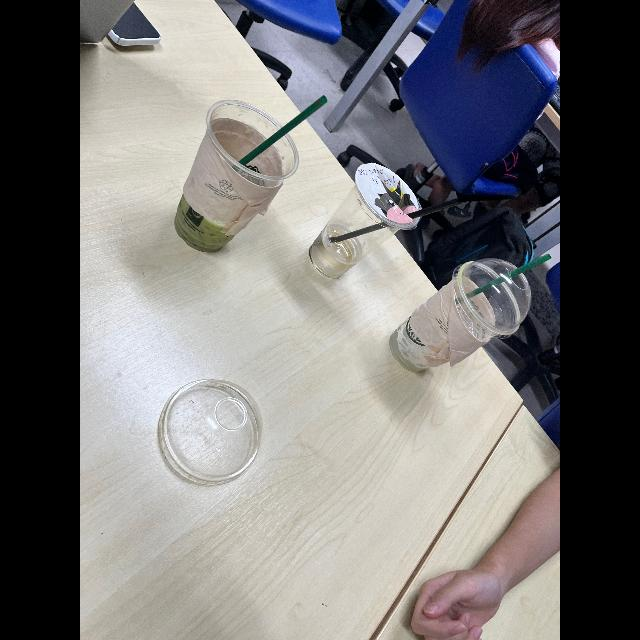plastic_cup: (172, 99, 298, 259), (383, 262, 513, 376), (303, 162, 422, 280)
plastic_cup_lid: (162, 362, 270, 490), (450, 245, 540, 343)
straw: (226, 92, 334, 182), (322, 195, 468, 248), (454, 246, 550, 308)
